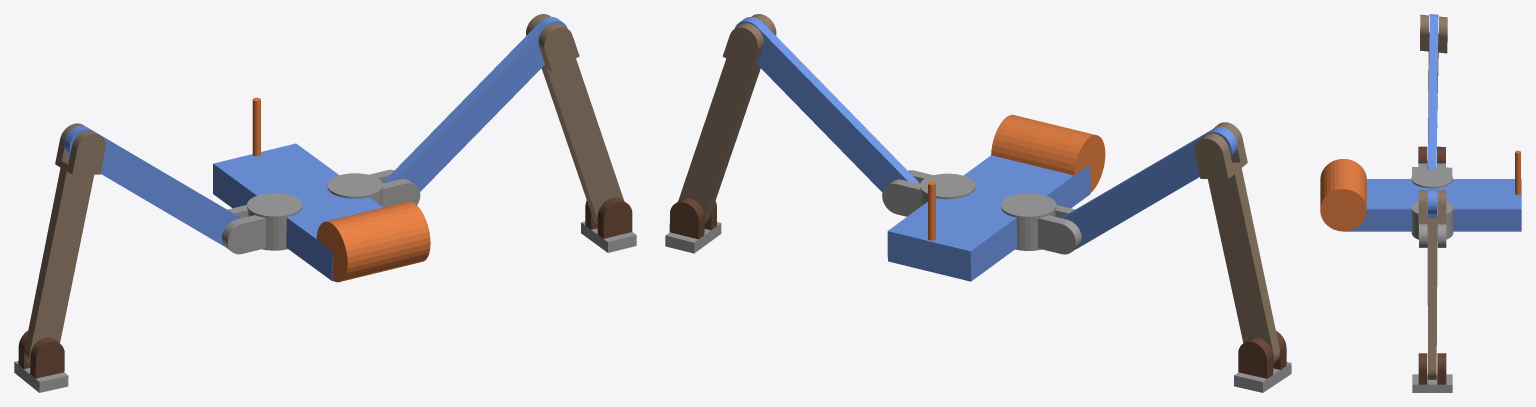
File: two-legs_v0-5.glb
3 renders of one model, left to right at view 1: azimuth 30°, elevation 25°; view 2: azimuth 150°, elevation 25°; view 3: azimuth 270°, elevation 25°, orthographic. The views are drawn at different scales.
Parts seen in each view (by area): view 1: Chassis, LowerLegRight2, LowerLegLeft2, UpperLegLeft2, UpperLegRight2, ShoulderRight2, ShoulderLeft2, FootRight2, FootLeft2; view 2: Chassis, LowerLegRight2, LowerLegLeft2, UpperLegLeft2, UpperLegRight2, ShoulderRight2, ShoulderLeft2, FootRight2, FootLeft2; view 3: Chassis, LowerLegLeft2, UpperLegRight2, FootLeft2, ShoulderLeft2, LowerLegRight2, ShoulderRight2, FootRight2, UpperLegLeft2.
Part boxes in pixels (x1,y1,x2,y2): Chassis: (213, 97, 430, 282); LowerLegRight2: (24, 123, 105, 363); LowerLegLeft2: (526, 14, 623, 223); UpperLegLeft2: (383, 17, 567, 191); UpperLegRight2: (64, 126, 241, 246); ShoulderRight2: (222, 193, 302, 254); ShoulderLeft2: (327, 169, 420, 207); FootRight2: (14, 330, 68, 392); FootLeft2: (581, 197, 636, 252); Chassis: (887, 114, 1105, 281); LowerLegRight2: (1194, 122, 1280, 364); LowerLegLeft2: (678, 14, 776, 224); UpperLegLeft2: (735, 17, 919, 192); UpperLegRight2: (1062, 127, 1237, 248); ShoulderRight2: (1001, 193, 1081, 254); ShoulderLeft2: (882, 170, 975, 216); FootRight2: (1234, 331, 1291, 392); FootLeft2: (665, 198, 721, 253); Chassis: (1320, 150, 1521, 231); LowerLegLeft2: (1418, 190, 1446, 379); UpperLegRight2: (1427, 14, 1438, 169); FootLeft2: (1412, 353, 1452, 392); ShoulderLeft2: (1411, 199, 1453, 247); LowerLegRight2: (1420, 14, 1447, 167); ShoulderRight2: (1411, 163, 1452, 188); FootRight2: (1412, 146, 1452, 175); UpperLegLeft2: (1428, 189, 1436, 218).
Bounding box in the file's own units: 14.42 × 5.56 × 5.62.
